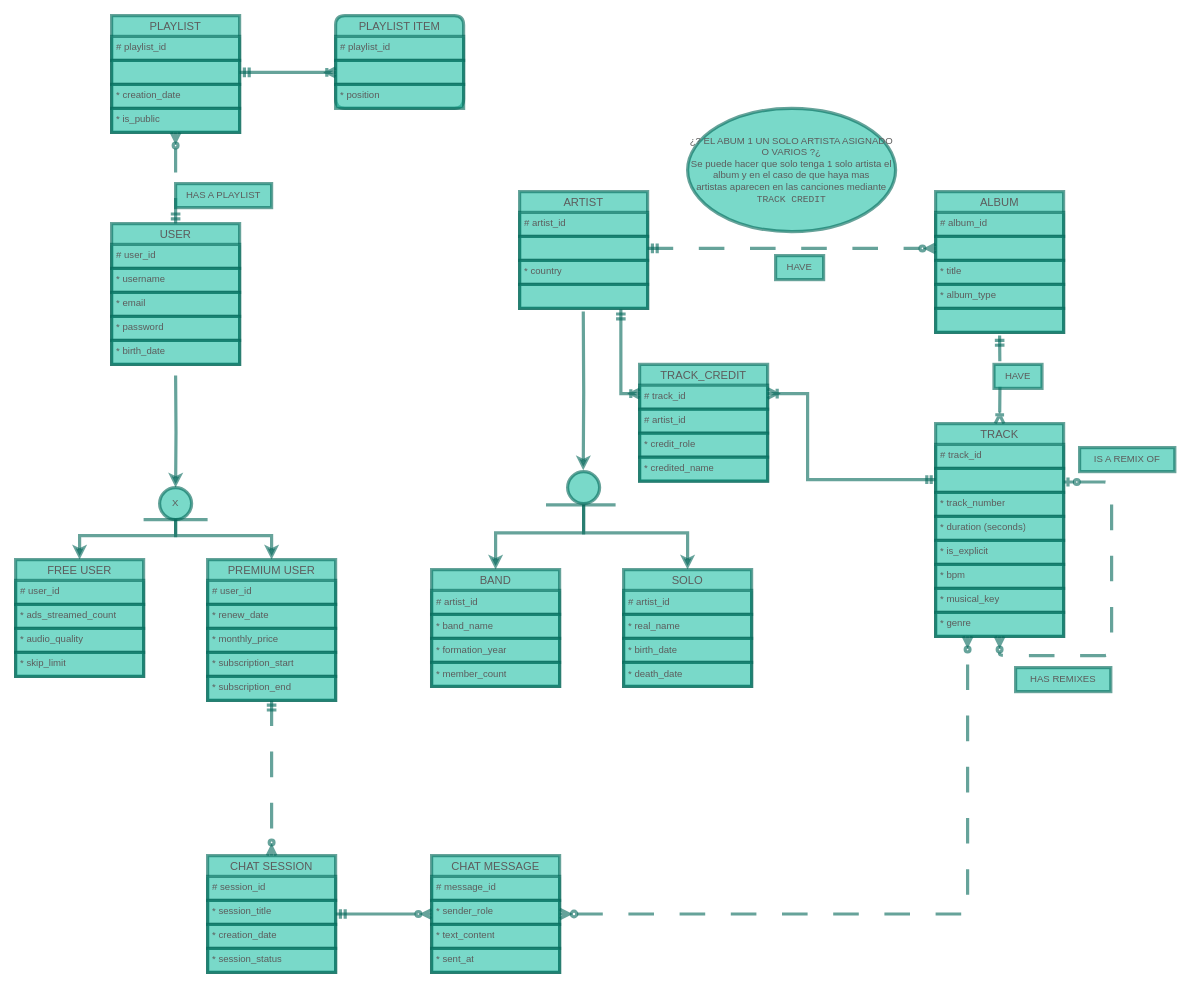
The diagram is 1190 pixels wide and 988 high, and some of its shapes have lost their labels. Each missing label, with the centre of its shape:
* added_at: point 399,72
* biography: point 583,296
* name: point 175,72
* release_date: point 999,248
* stage_name: point 583,248
* total_tracks: point 999,320
* track_name: point 999,480
